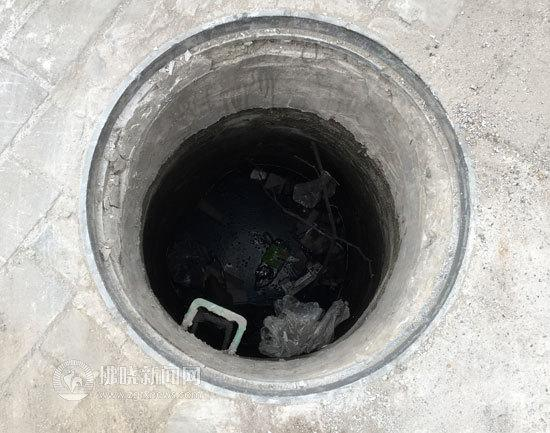lose: (79, 7, 480, 398)
